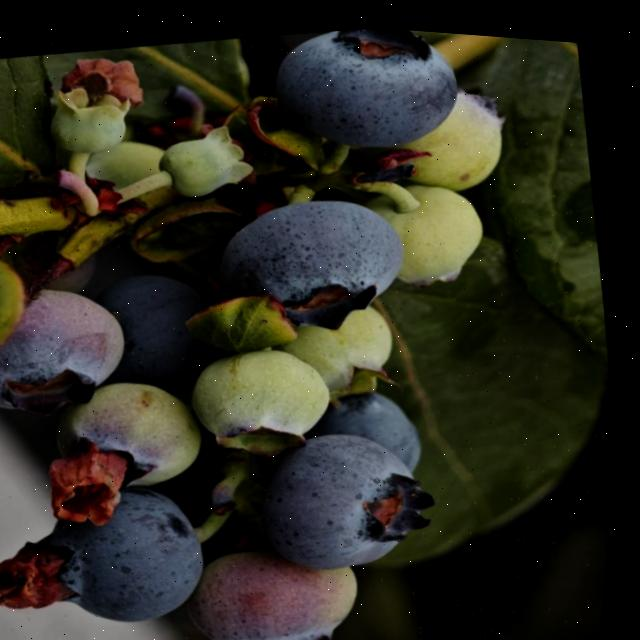RipeBlueBerry: (207, 172, 419, 330), (30, 462, 224, 633), (254, 407, 448, 577), (265, 16, 478, 159)
Semi-RipeBlueBerry: (0, 269, 152, 418), (194, 530, 373, 640)
